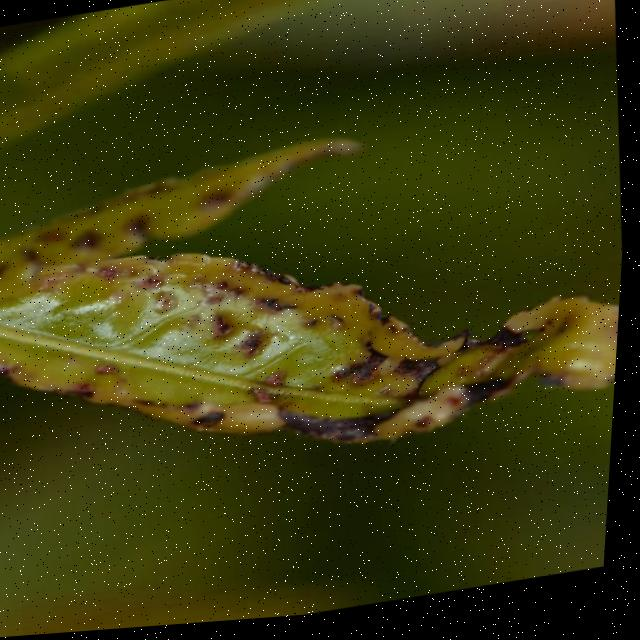Tea red scab: (11, 208, 580, 484)
